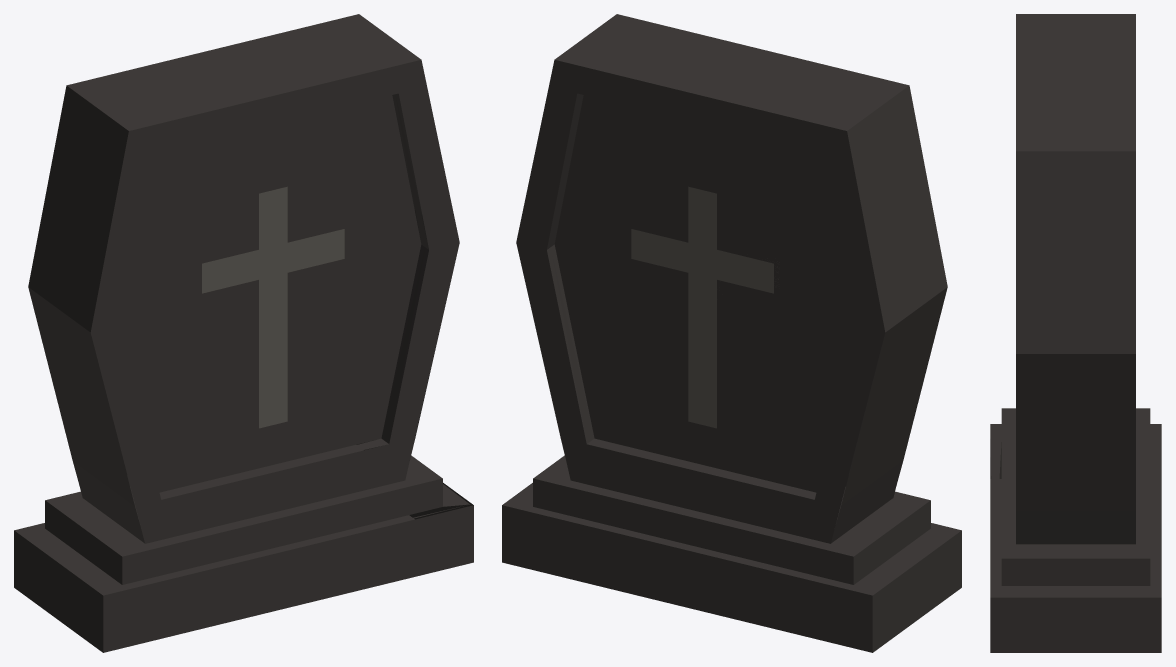
The model's file is 3d-liang-yuheng-lapida.glb.
3 views of the same model, side by side, from view 1: azimuth 30°, elevation 25°; view 2: azimuth 150°, elevation 25°; view 3: azimuth 270°, elevation 25° (orthographic). The views are drawn at different scales.
Parts seen in each view (by area): view 1: làpida; view 2: làpida; view 3: làpida.
Boxes of the visible parts, bbox=[...] form: làpida: bbox=[14, 14, 473, 652]; làpida: bbox=[502, 14, 961, 652]; làpida: bbox=[990, 14, 1161, 652].
Bounding box in the file's own units: 0.6 × 0.7773 × 0.25.
1 material, 1 textured.
